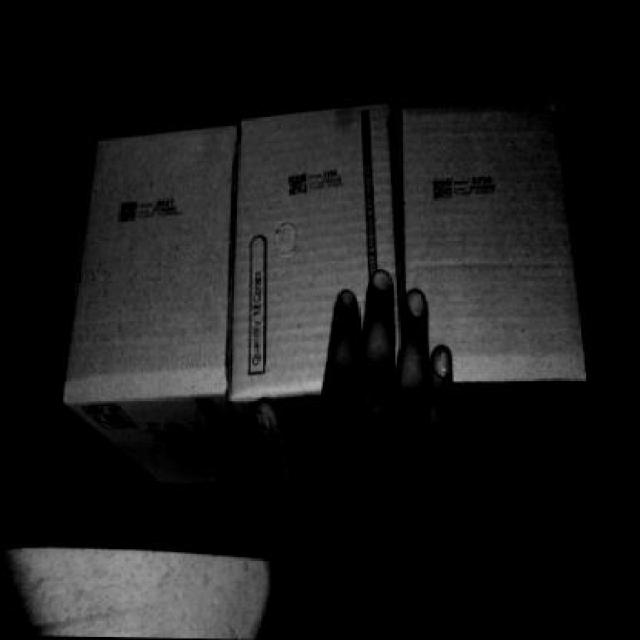cardboxes: (402, 106, 590, 388), (67, 118, 236, 410), (235, 115, 403, 388)
